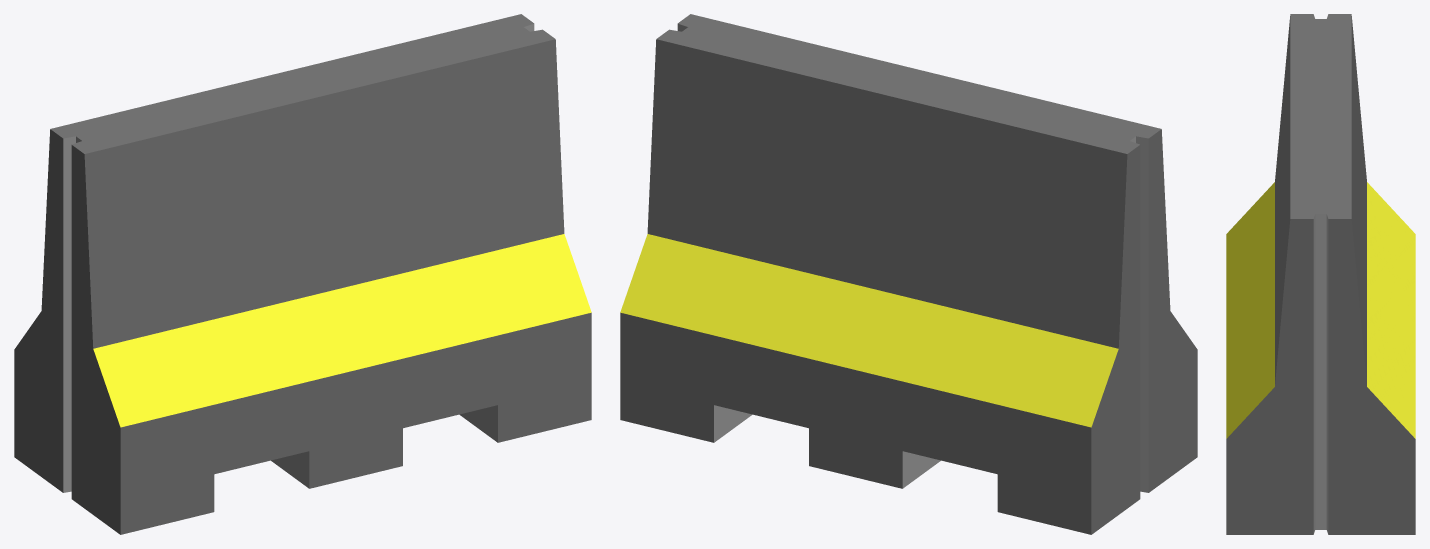
File: SM_Concrete_001.fbx
3 views of the same model, side by side, from view 1: azimuth 30°, elevation 25°; view 2: azimuth 150°, elevation 25°; view 3: azimuth 270°, elevation 25° (orthographic). The views are drawn at different scales.
Parts seen in each view (by area): view 1: Concrete.001; view 2: Concrete.001; view 3: Concrete.001.
Boxes of the visible parts, box(x1,y1,x2,y2) form: Concrete.001: box(14, 14, 591, 534); Concrete.001: box(620, 14, 1197, 534); Concrete.001: box(1226, 14, 1415, 534).
Size of the model in its own units: 101 by 72.26 by 39.27.
